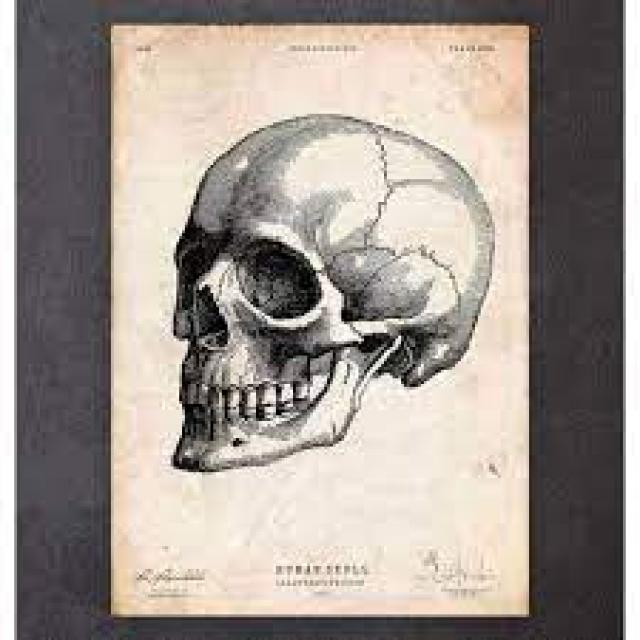skull: (158, 94, 498, 484)
